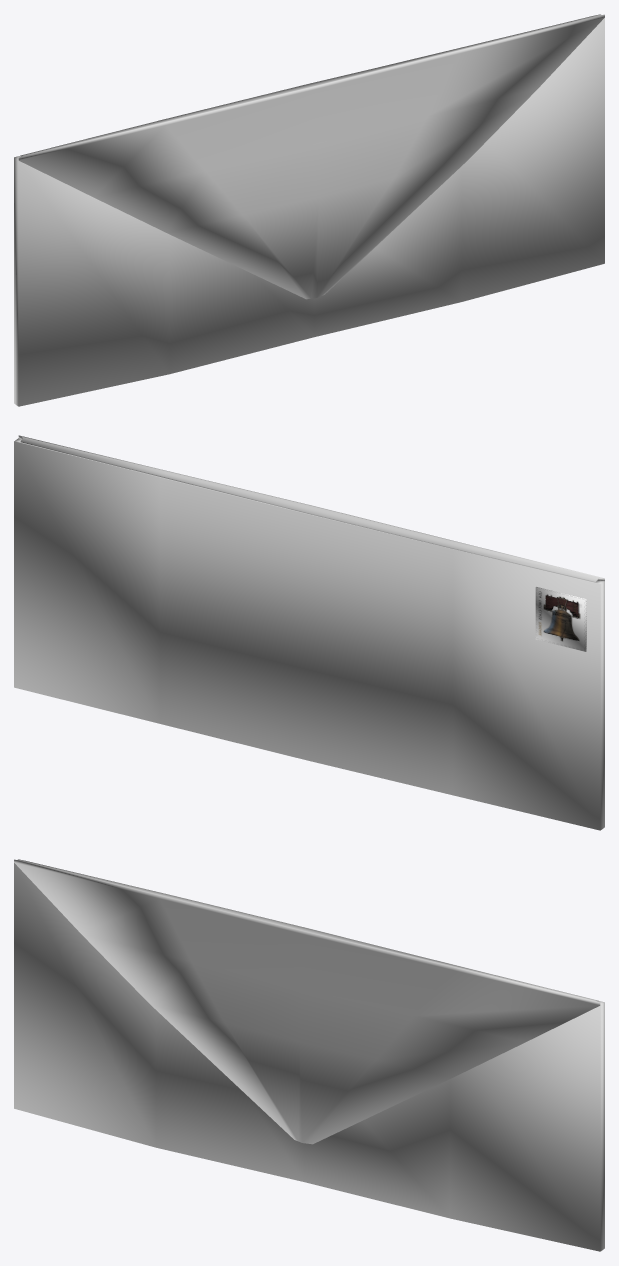
File: envelope.fbx
The picture shows the model from 3 angles, top to bottom: view 1: azimuth 30°, elevation 25°; view 2: azimuth 150°, elevation 25°; view 3: azimuth 330°, elevation 25°; orthographic projection.
Visible parts, largest first — view 1: envelope, envelope flap; view 2: envelope, envelope flap, stamp; view 3: envelope, envelope flap.
Part boxes in pixels (bbox=[...]): envelope: bbox=[14, 14, 604, 406]; envelope flap: bbox=[18, 14, 604, 299]; envelope: bbox=[14, 438, 604, 830]; envelope flap: bbox=[18, 435, 604, 582]; stamp: bbox=[535, 587, 586, 651]; envelope: bbox=[14, 859, 604, 1251]; envelope flap: bbox=[14, 859, 600, 1144].
Bounding box in the file's own units: 1 × 0.4059 × 0.0395.
Materials: 2 (1 with a texture image).
